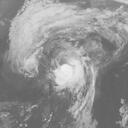cyclone: (54, 65, 85, 87)
